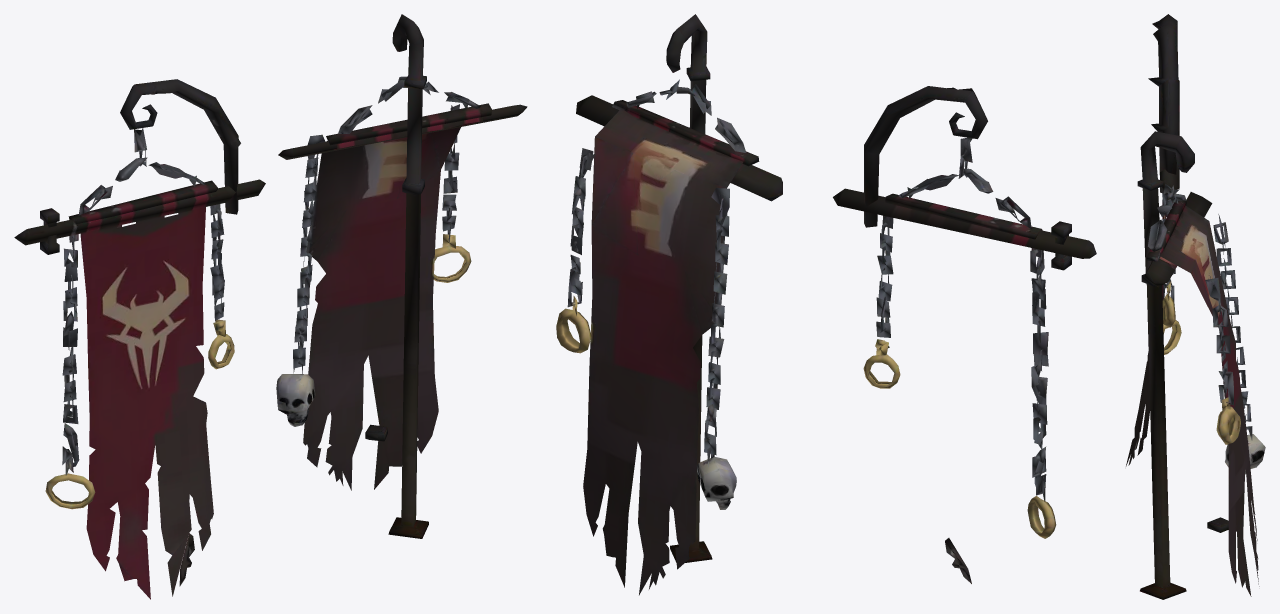
Rendered from abyss_torn_chained_war_banner.glb.
3 renders of one model, left to right at view 1: azimuth 30°, elevation 25°; view 2: azimuth 150°, elevation 25°; view 3: azimuth 270°, elevation 25°, orthographic. The views are drawn at different scales.
Parts seen in each view (by area): view 1: tripo_node_114ba287-bd0b-4966-af92-b1665477acb9; view 2: tripo_node_114ba287-bd0b-4966-af92-b1665477acb9; view 3: tripo_node_114ba287-bd0b-4966-af92-b1665477acb9.
Boxes of the visible parts, left/top/right/bottom form: tripo_node_114ba287-bd0b-4966-af92-b1665477acb9: left=14, top=14, right=527, bottom=599; tripo_node_114ba287-bd0b-4966-af92-b1665477acb9: left=556, top=14, right=1096, bottom=595; tripo_node_114ba287-bd0b-4966-af92-b1665477acb9: left=1126, top=14, right=1265, bottom=599.
Size of the model in its own units: 5.16 by 5 by 1.38.
Materials: 1 (1 with a texture image).
